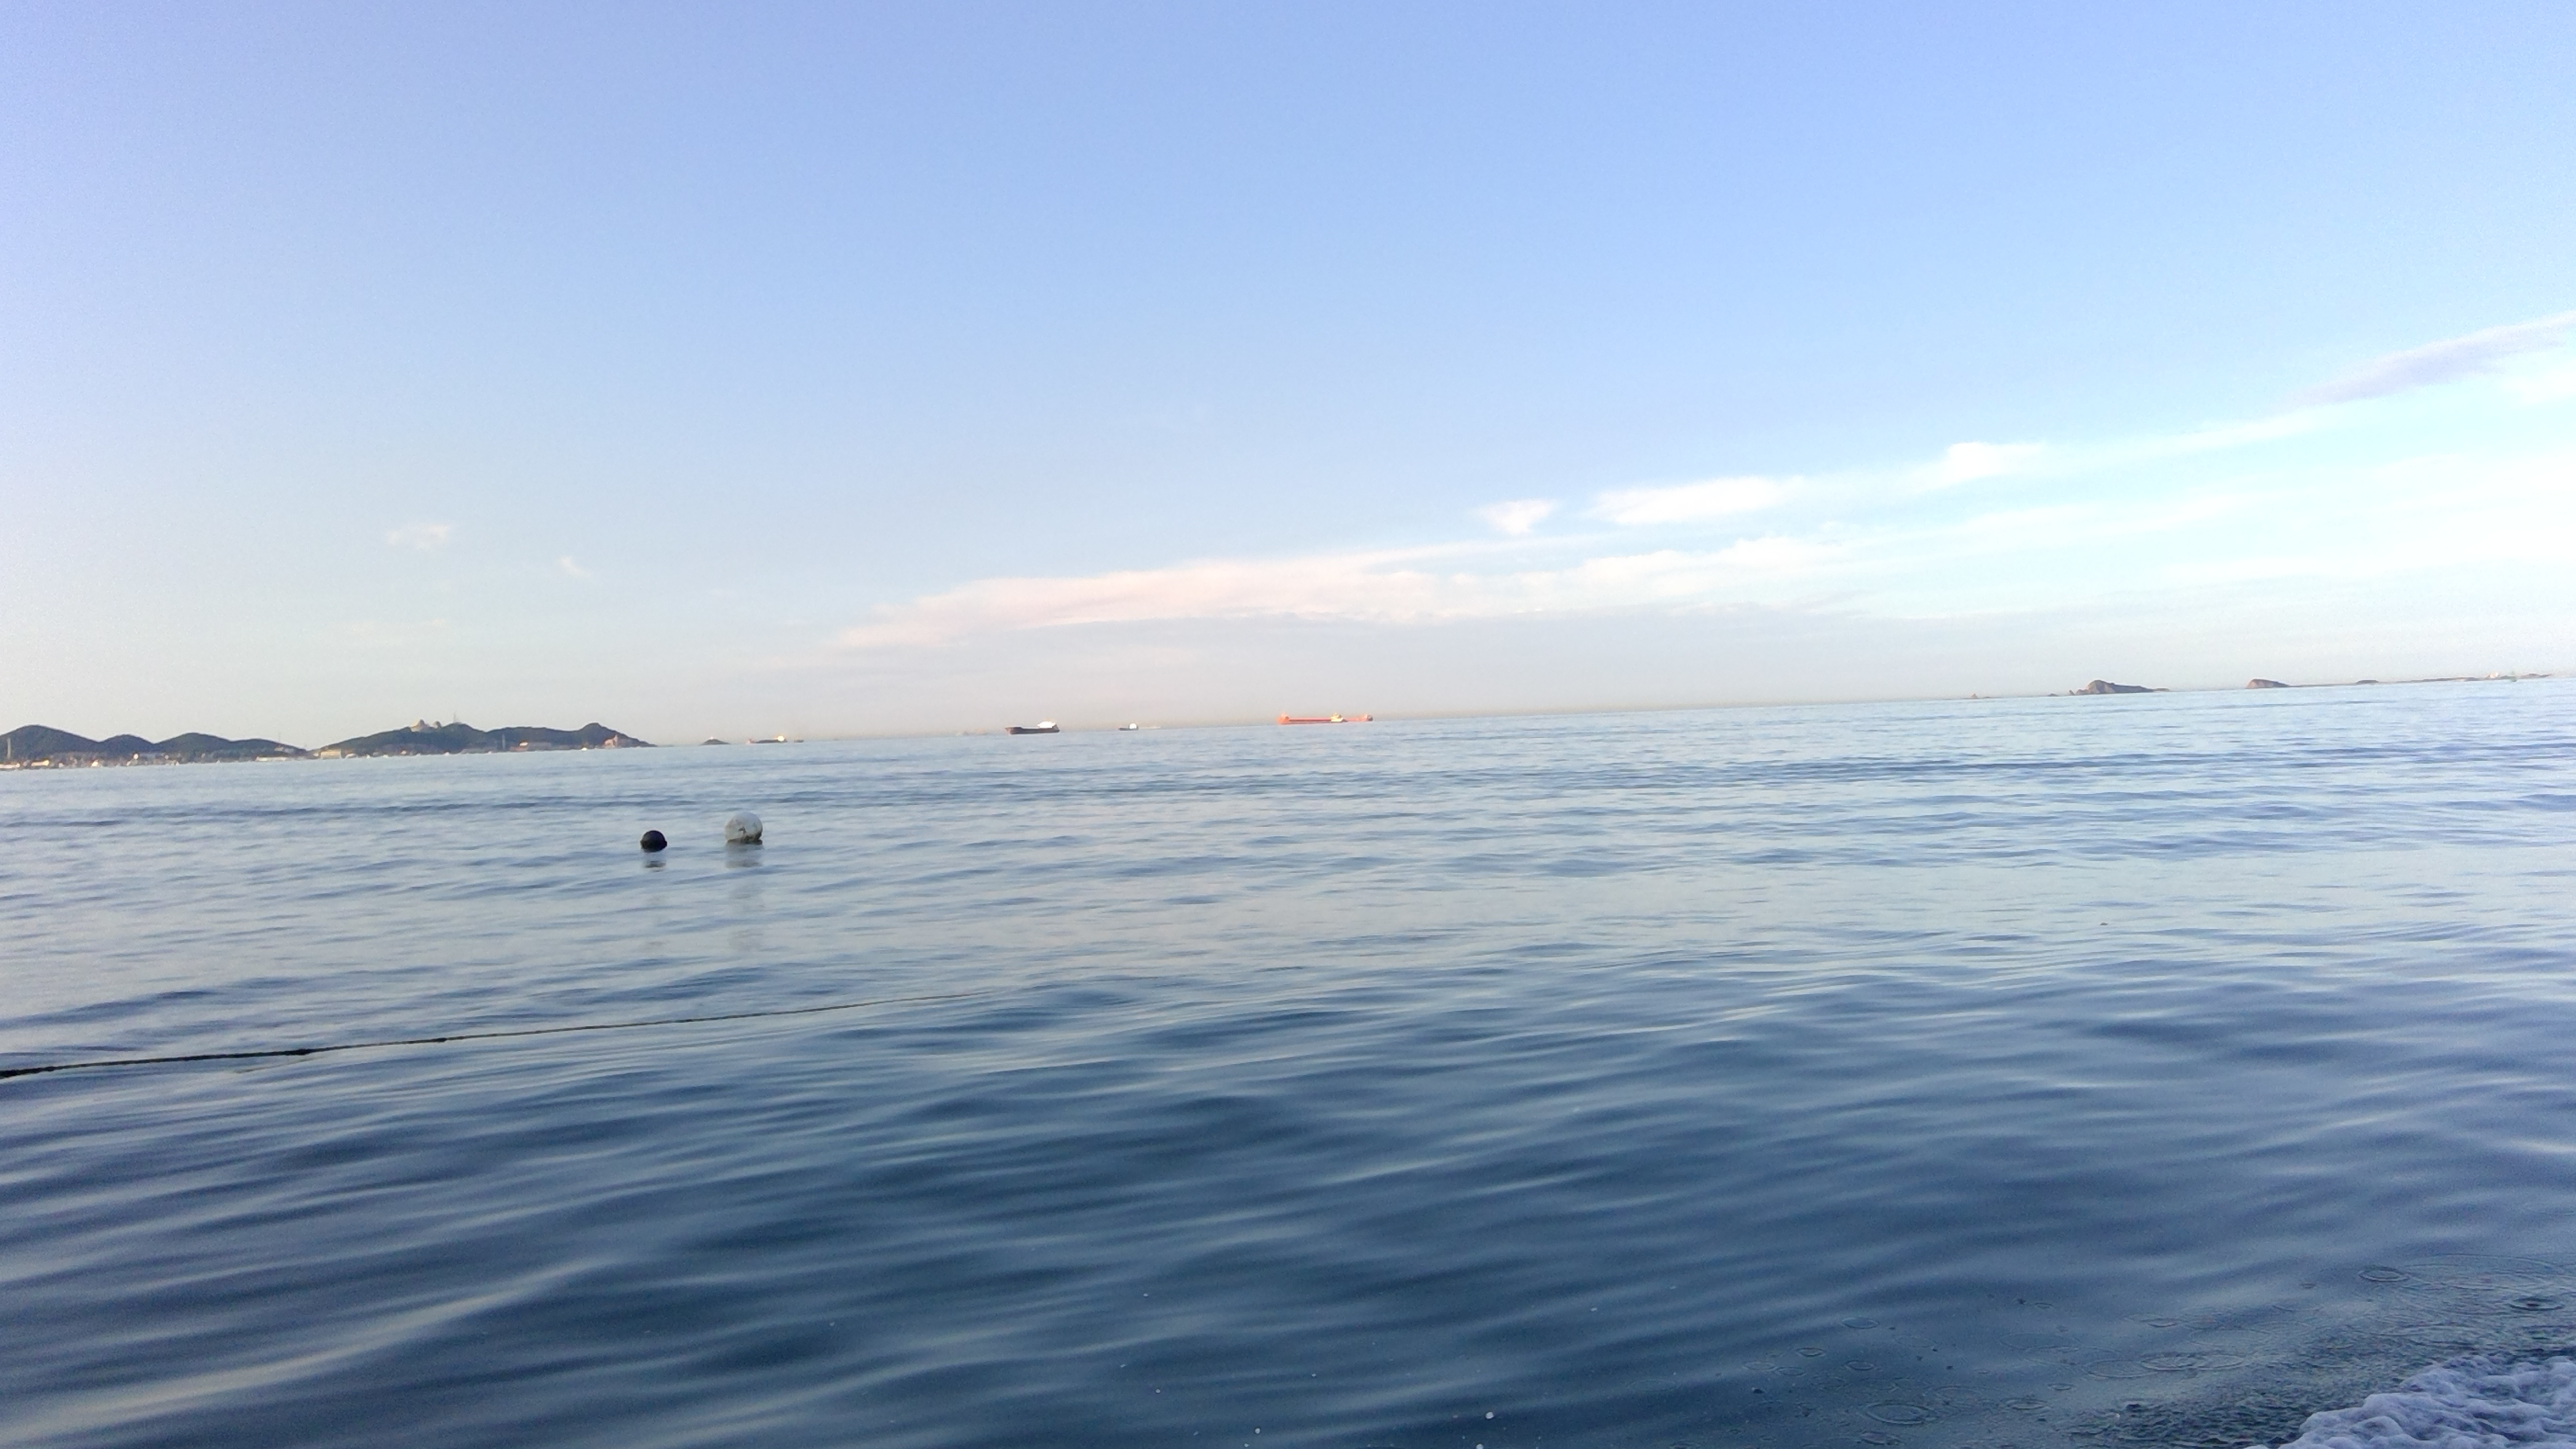ball: (717, 803, 771, 863), (619, 824, 678, 870)
platform: (1276, 695, 1376, 732)
rock: (329, 702, 644, 761), (0, 720, 304, 773), (2072, 678, 2153, 702), (2227, 663, 2289, 694)
ship: (1001, 713, 1067, 745)
